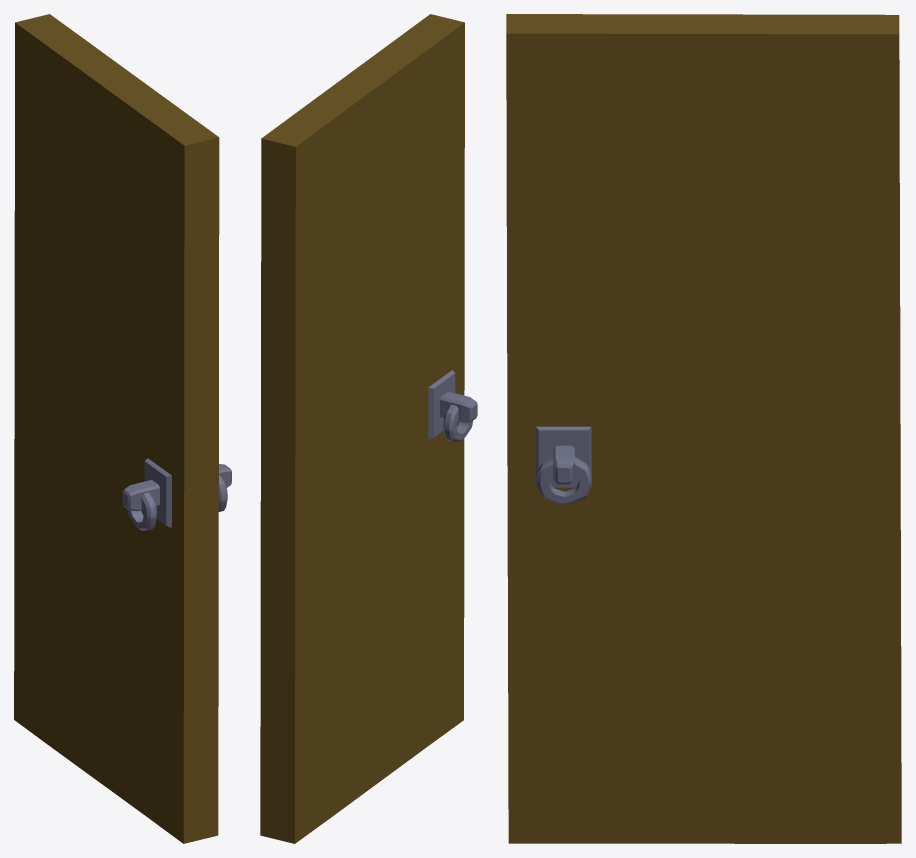
File: SquareDoor.fbx
3 renders of one model, left to right at view 1: azimuth 30°, elevation 25°; view 2: azimuth 150°, elevation 25°; view 3: azimuth 270°, elevation 25°, orthographic. The views are drawn at different scales.
Visible parts, largest first — view 1: polySurface88; view 2: polySurface88; view 3: polySurface88.
Boxes of the visible parts, x1,y1,x2,y2 form: polySurface88: (14, 14, 231, 843); polySurface88: (260, 14, 477, 843); polySurface88: (506, 14, 901, 843).
Bounding box in the file's own units: 0.3176 × 2.03 × 0.8996.
